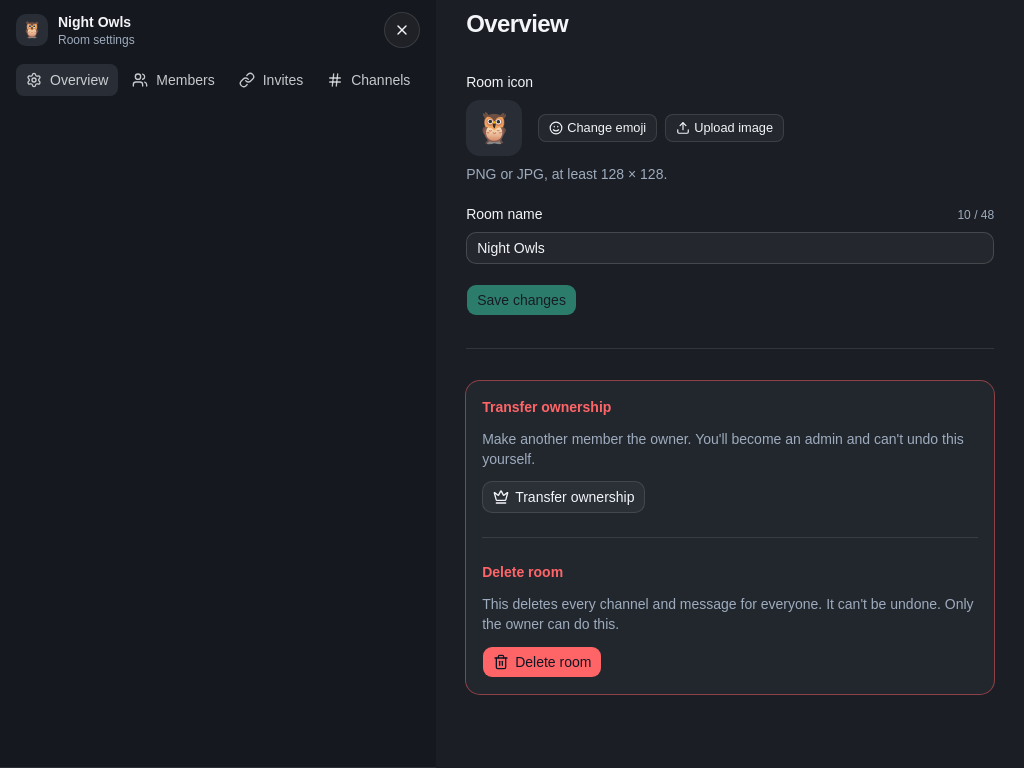
Scenario: Delete room dialog (owner) › with "Night Owls" typed, the delete action enabled is true
Click the button "Delete room". click: (542, 662)
box: [482,646,602,678]
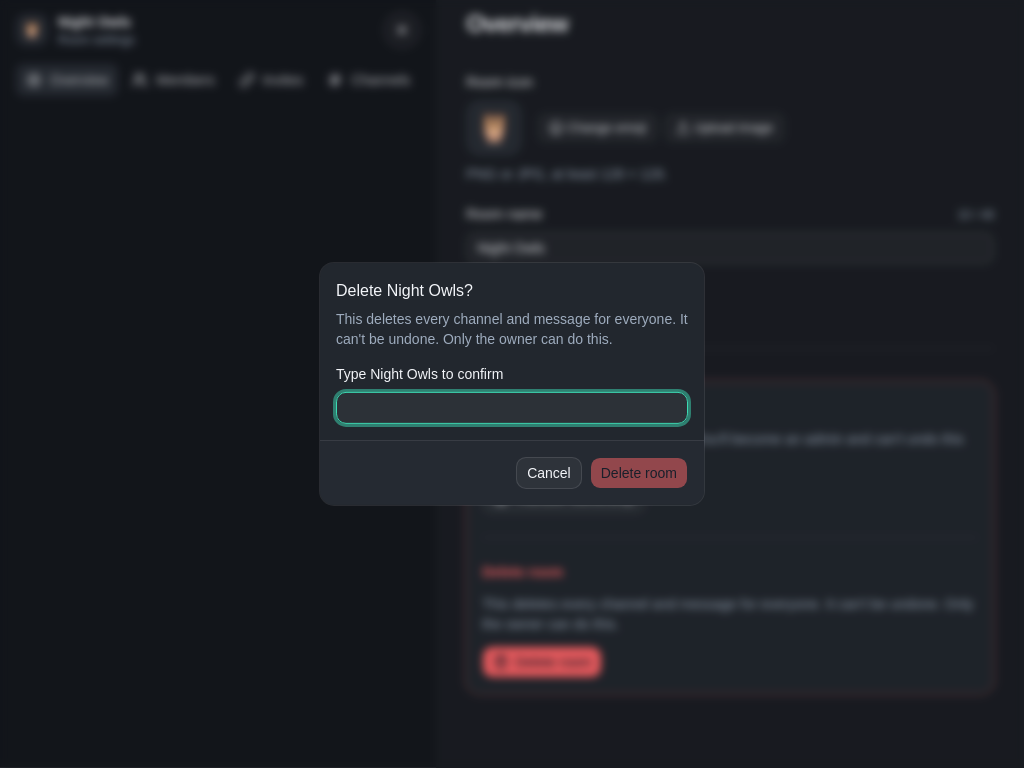
Type "Night Owls" into the field labelled "Type Night Owls to confirm". click: (512, 408)
box: [336,392,688,424]
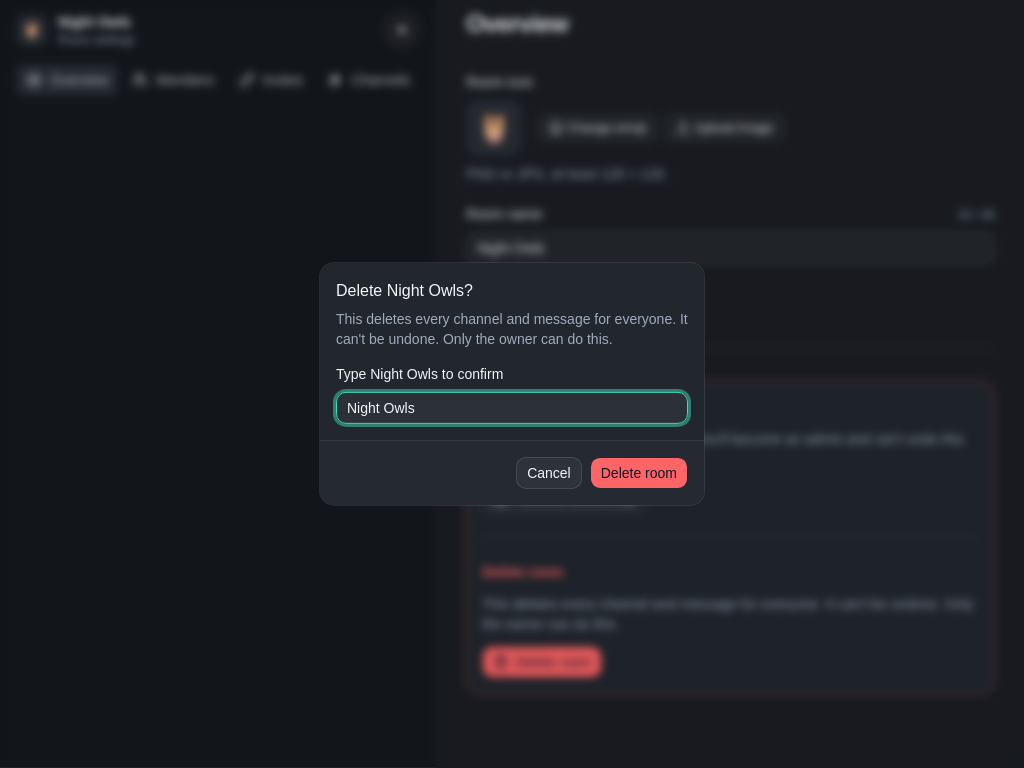
Result: the button "Delete room" is enabled at [590,457,688,489]
